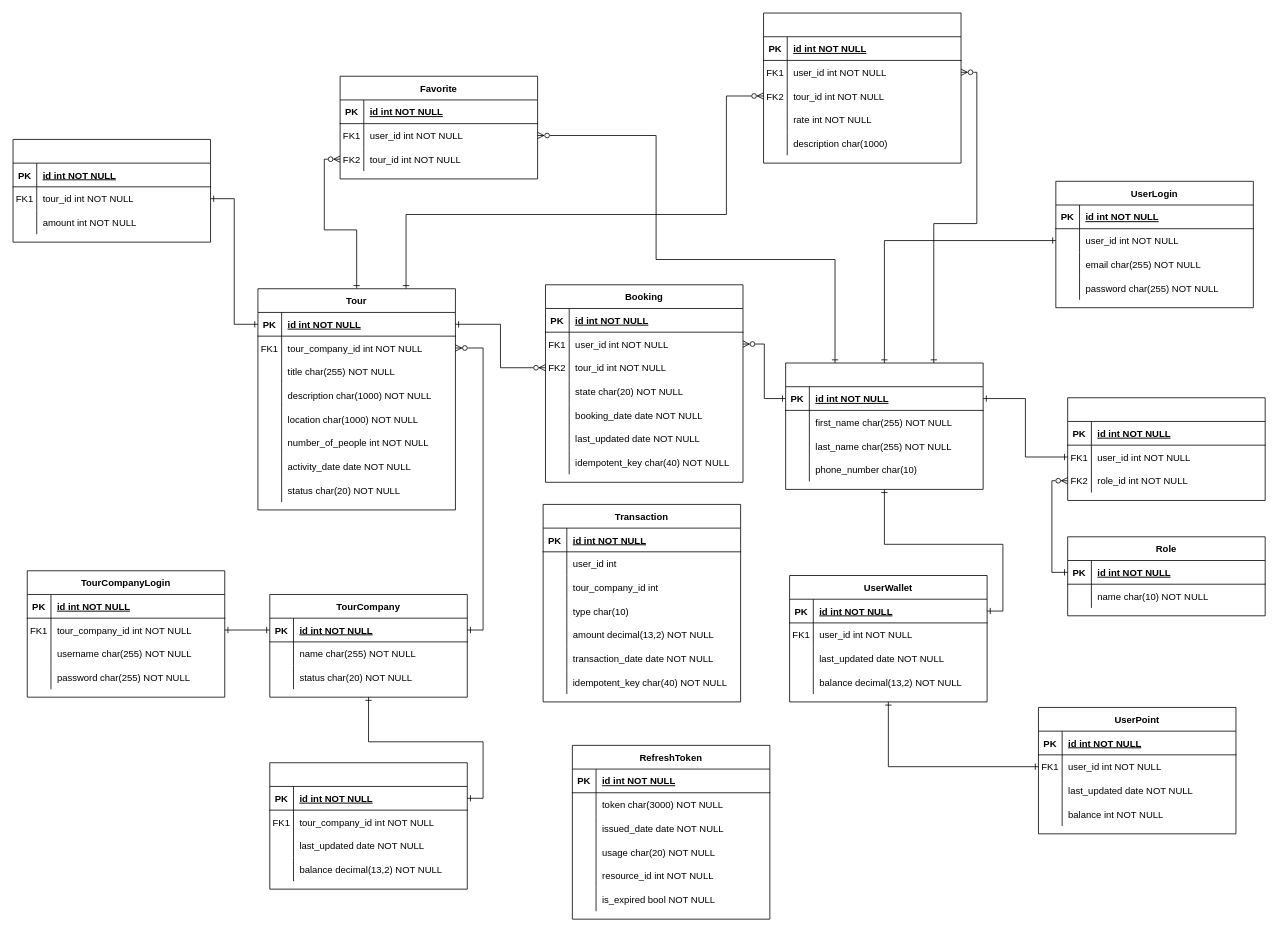
This 1278x932 diagram has some shape labels left out. Here are the shapes that lost their labels. From the top down, the box of each, then its label:
(763, 12, 961, 163): Review
(12, 139, 211, 242): TourCount
(785, 362, 983, 489): User
(1067, 397, 1265, 500): UserRole
(269, 762, 467, 889): TourWallet
